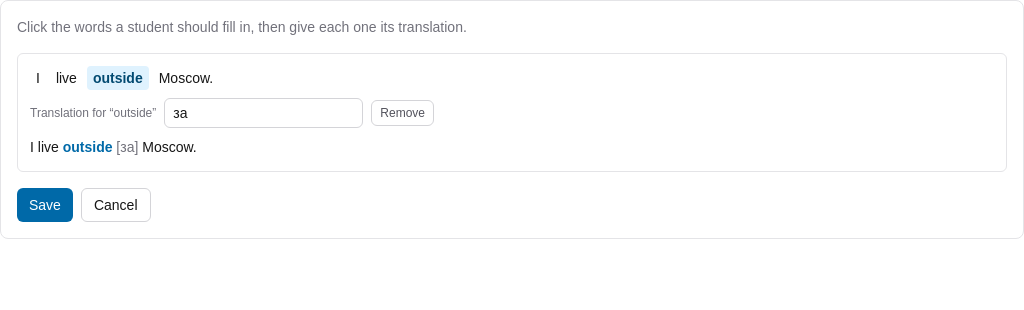
Test: SentenceEditor — adding sentences › reports a save failure instead of closing as though it worked
Click the button "Save": x=45, y=205 [17,188,73,222]
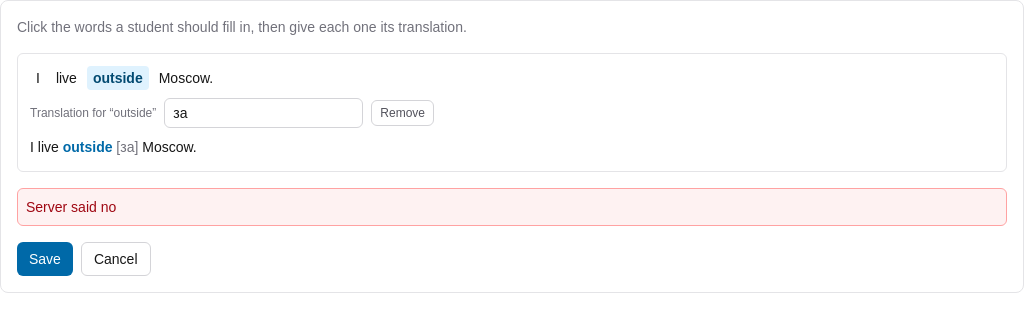
Expected: the message reads "Server said no", [26,199,116,215]
